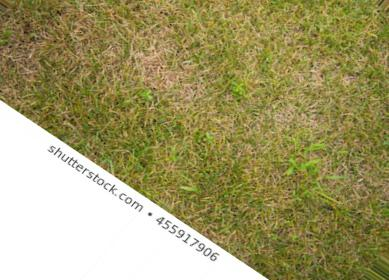patch: (215, 83, 345, 165), (131, 16, 227, 127), (126, 124, 236, 199)
